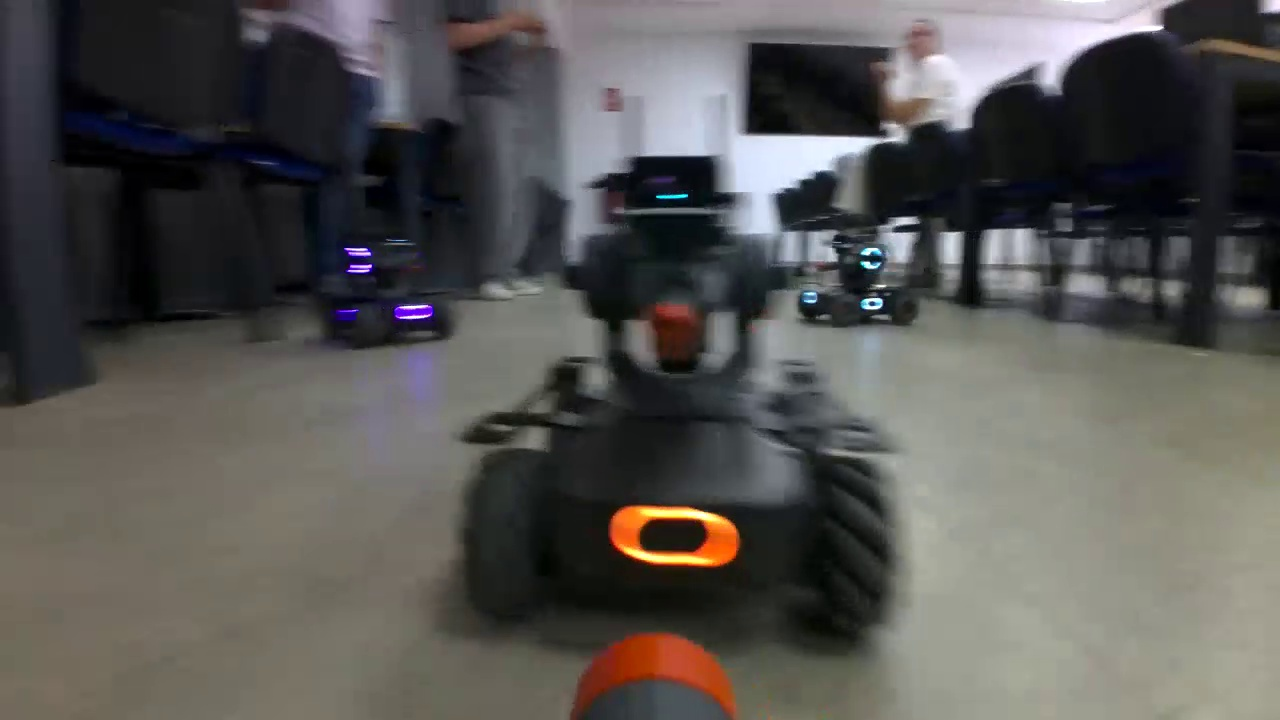robot: (455, 150, 905, 645), (320, 238, 448, 345), (798, 225, 918, 325)
